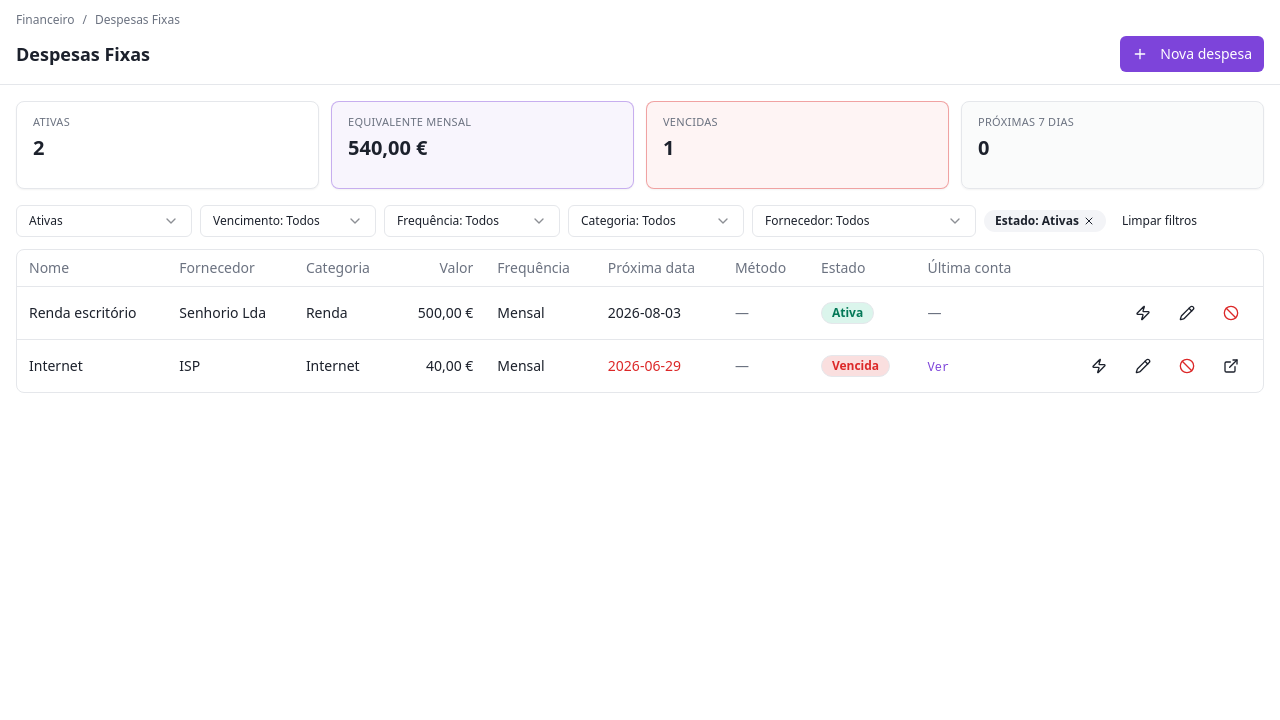
Test: RecurringExpensesPage (F23-D3) › cancela despesa exige motivo e chama RPC
The width and height of the screenshot is (1280, 720).
Later steps or results of the test are not shown.
Expected: the text "Renda escritório" is shown, [29,303,136,322]
Step 1. Click the button titled "Cancelar despesa" in the row of "Renda escritório" → (1231, 313), box [1211,295,1251,331]
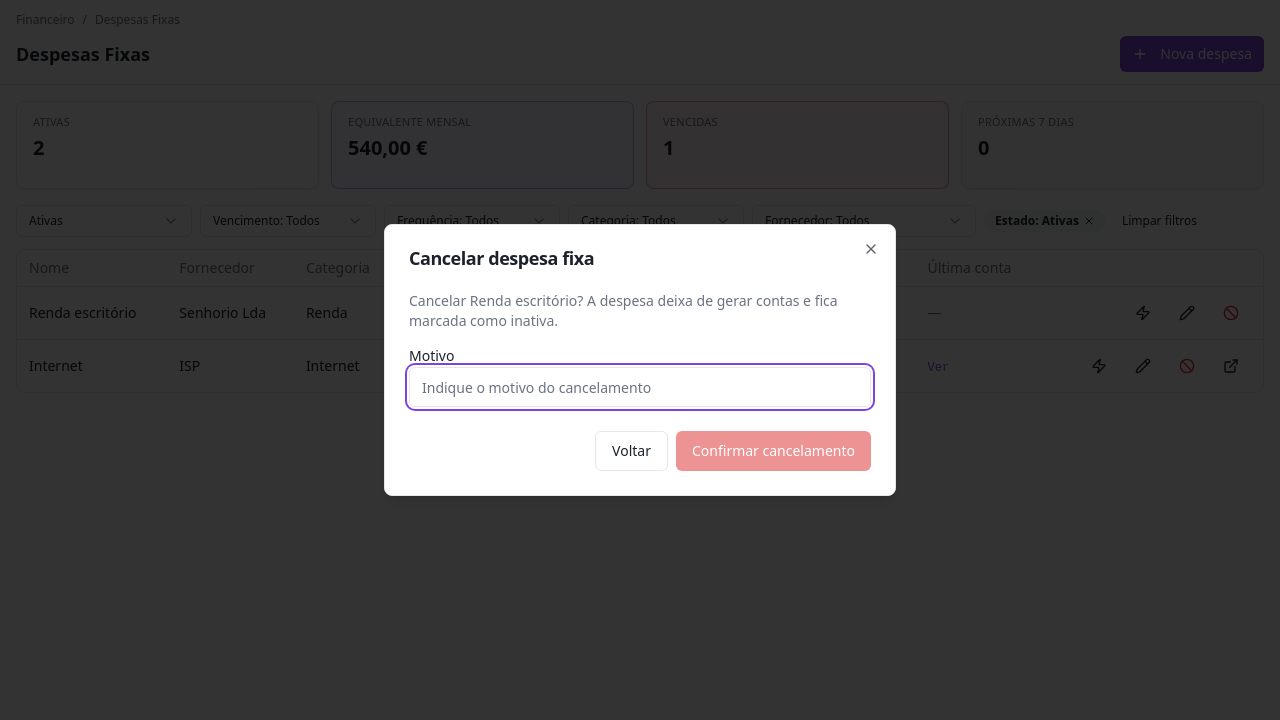
Expected: the button "Confirmar cancelamento" is disabled, [676,431,871,471]
